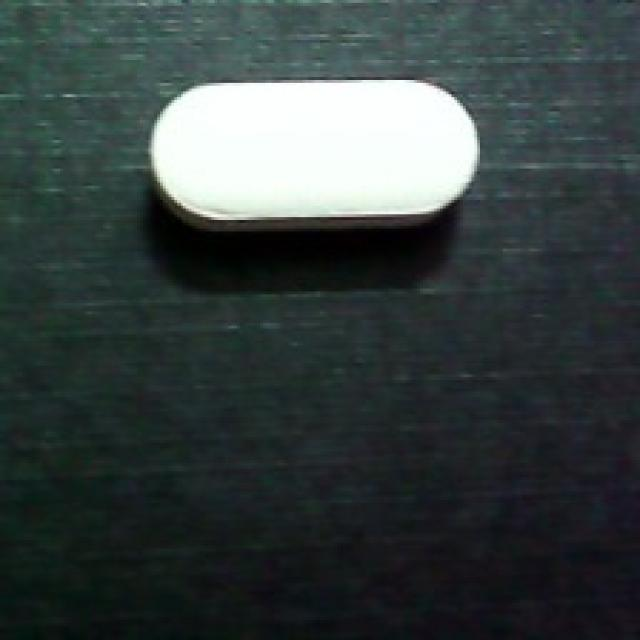no-defect: (143, 63, 483, 237)
